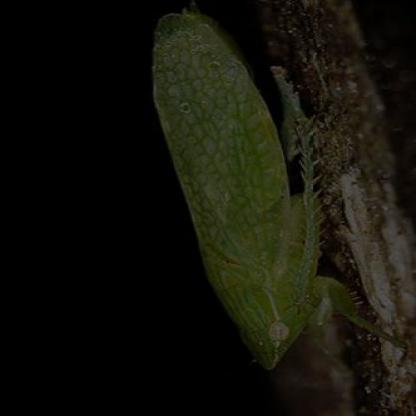green-leafhopper: (148, 8, 376, 359)
